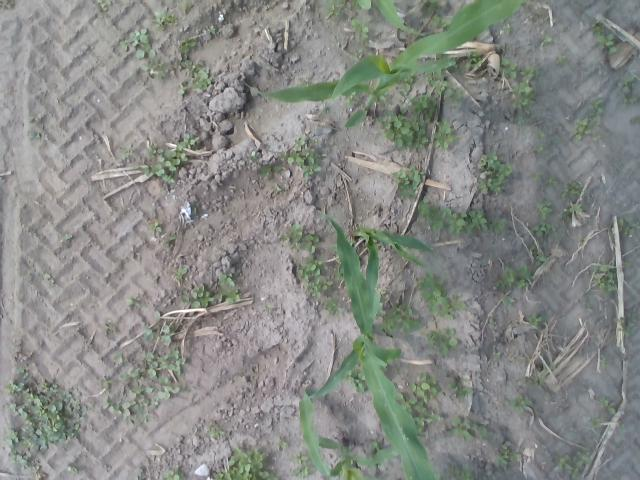Maize: (245, 0, 523, 128), (306, 209, 434, 480), (300, 391, 399, 480), (349, 228, 434, 310), (358, 0, 426, 36)
Weeds: (102, 310, 188, 426), (5, 366, 95, 468), (133, 134, 199, 182), (418, 201, 488, 236), (418, 271, 467, 320), (214, 443, 278, 480), (376, 109, 428, 152), (280, 134, 322, 181), (474, 151, 512, 194), (376, 305, 419, 334), (278, 224, 319, 254), (119, 28, 158, 59), (392, 166, 423, 199), (422, 326, 458, 354), (552, 452, 588, 480), (406, 373, 440, 401), (451, 416, 487, 442), (182, 283, 214, 307), (496, 266, 530, 288), (594, 263, 618, 293), (435, 118, 457, 150), (511, 81, 535, 108), (411, 94, 436, 118), (494, 445, 520, 468), (190, 64, 212, 91), (426, 73, 450, 97), (298, 256, 322, 280), (574, 118, 599, 140), (140, 60, 168, 79), (445, 378, 471, 398), (415, 401, 441, 420), (618, 216, 640, 237), (152, 10, 175, 30), (320, 297, 342, 317), (351, 18, 370, 40), (325, 0, 347, 19), (560, 180, 582, 199), (508, 394, 533, 410), (348, 371, 366, 393), (500, 56, 517, 78), (598, 34, 618, 52), (398, 392, 416, 412), (614, 316, 632, 335), (214, 290, 240, 303), (450, 466, 474, 480), (533, 221, 555, 236), (464, 52, 482, 70), (419, 0, 439, 16), (292, 464, 314, 478), (600, 396, 616, 415), (206, 422, 225, 438), (446, 88, 466, 103), (178, 37, 196, 53), (256, 166, 282, 176), (589, 99, 604, 116), (538, 202, 553, 219), (171, 266, 186, 283), (51, 234, 72, 246), (618, 77, 634, 92), (403, 76, 418, 92), (317, 275, 333, 290), (432, 15, 450, 28), (522, 377, 543, 388), (178, 55, 193, 70), (488, 220, 504, 234), (120, 144, 134, 160), (161, 470, 183, 480), (305, 282, 320, 296), (148, 222, 162, 237), (218, 273, 234, 286), (144, 145, 158, 159), (126, 297, 141, 310), (520, 67, 536, 79), (290, 452, 306, 464), (566, 202, 582, 213), (413, 417, 432, 426), (30, 116, 44, 128), (180, 1, 192, 13), (592, 22, 604, 34), (534, 252, 546, 264), (528, 314, 540, 326), (276, 438, 288, 450), (348, 0, 362, 10), (501, 293, 513, 304), (96, 0, 109, 10), (27, 132, 42, 140), (540, 34, 550, 46), (346, 92, 356, 104), (588, 419, 601, 428), (555, 56, 566, 66), (530, 173, 542, 182), (44, 274, 54, 284), (544, 179, 558, 186), (624, 96, 636, 104), (250, 152, 258, 162), (536, 130, 545, 138), (66, 466, 77, 472), (208, 26, 216, 34), (600, 358, 606, 368), (592, 133, 600, 140), (180, 86, 187, 94), (378, 289, 386, 296), (535, 146, 544, 152), (493, 353, 500, 360), (518, 116, 524, 124), (528, 244, 536, 250), (373, 442, 379, 450), (264, 305, 270, 313), (504, 27, 510, 34), (620, 427, 626, 434), (550, 364, 556, 370), (623, 261, 630, 266), (313, 138, 318, 143), (580, 238, 588, 241), (489, 316, 493, 322), (524, 110, 530, 113)
